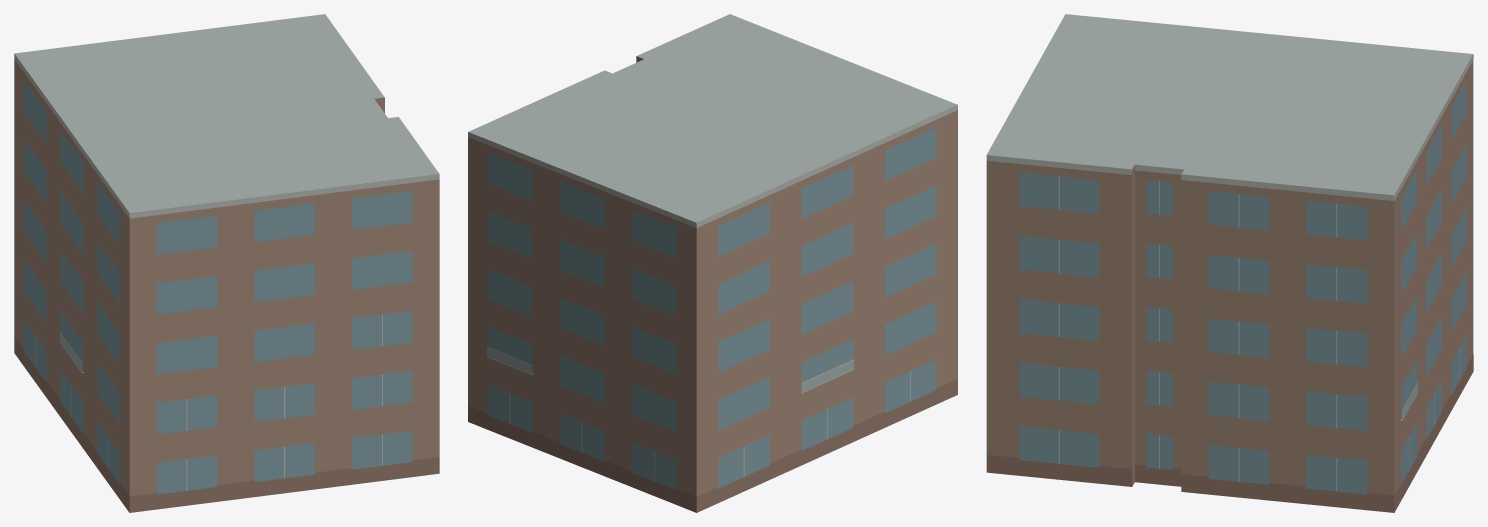
File: survey-upis-32562529.glb
3 renders of one model, left to right at view 1: azimuth 30°, elevation 25°; view 2: azimuth 150°, elevation 25°; view 3: azimuth 270°, elevation 25°, orthographic. The views are drawn at different scales.
Parts seen in each view (by area): view 1: survey-upis-32562529.tmp; view 2: survey-upis-32562529.tmp; view 3: survey-upis-32562529.tmp.
Part boxes in pixels (x1,y1,x2,y2): survey-upis-32562529.tmp: (14, 14, 439, 512); survey-upis-32562529.tmp: (468, 14, 957, 512); survey-upis-32562529.tmp: (986, 14, 1473, 512).
Size of the model in its own units: 16.55 by 13.5 by 18.77.
